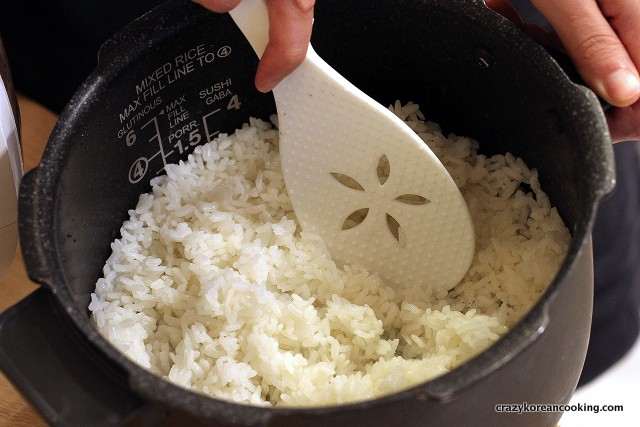rice: (95, 86, 585, 374)
